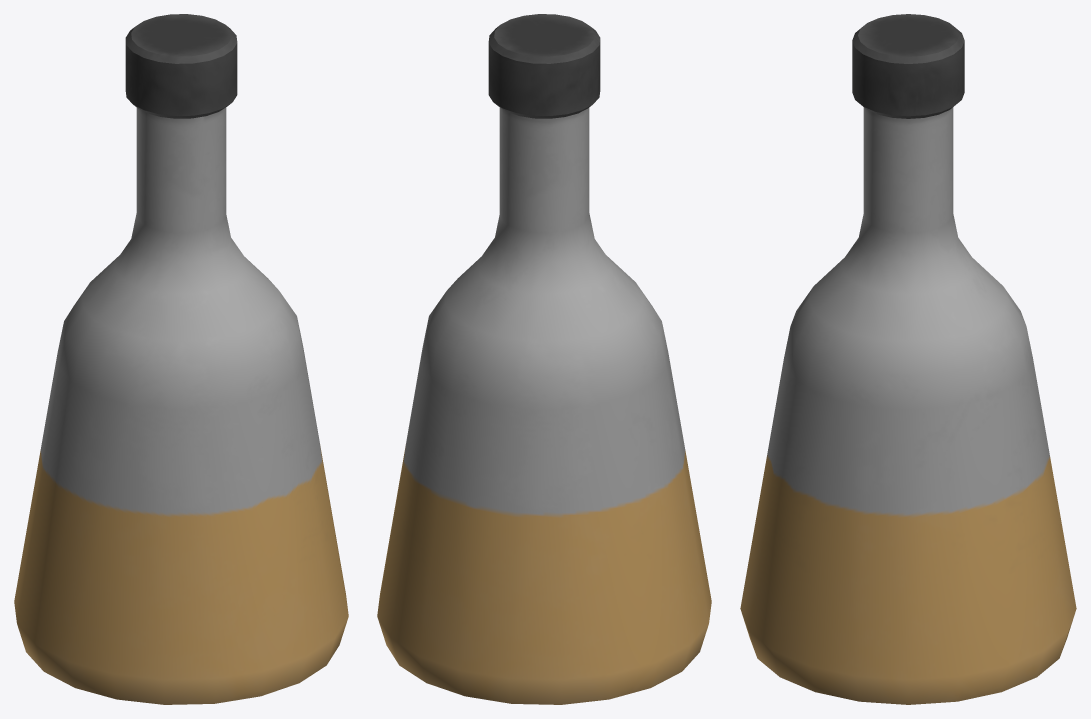
Rendered from SM_Bottle2.fbx.
The picture shows the model from 3 angles, left to right: view 1: azimuth 30°, elevation 25°; view 2: azimuth 150°, elevation 25°; view 3: azimuth 270°, elevation 25°; orthographic projection.
Parts seen in each view (by area): view 1: SM_Bottle2_LOD0; view 2: SM_Bottle2_LOD0; view 3: SM_Bottle2_LOD0.
Boxes of the visible parts, left/top/right/bottom form: SM_Bottle2_LOD0: left=14, top=14, right=348, bottom=704; SM_Bottle2_LOD0: left=377, top=14, right=711, bottom=704; SM_Bottle2_LOD0: left=740, top=14, right=1076, bottom=704.
Size of the model in its own units: 12.17 by 12.17 by 24.56.
Materials: 1 (1 with a texture image).
